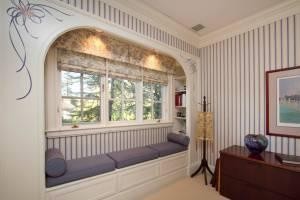window: (58, 70, 167, 124)
